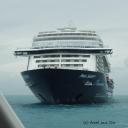cruises: (13, 22, 120, 107)
